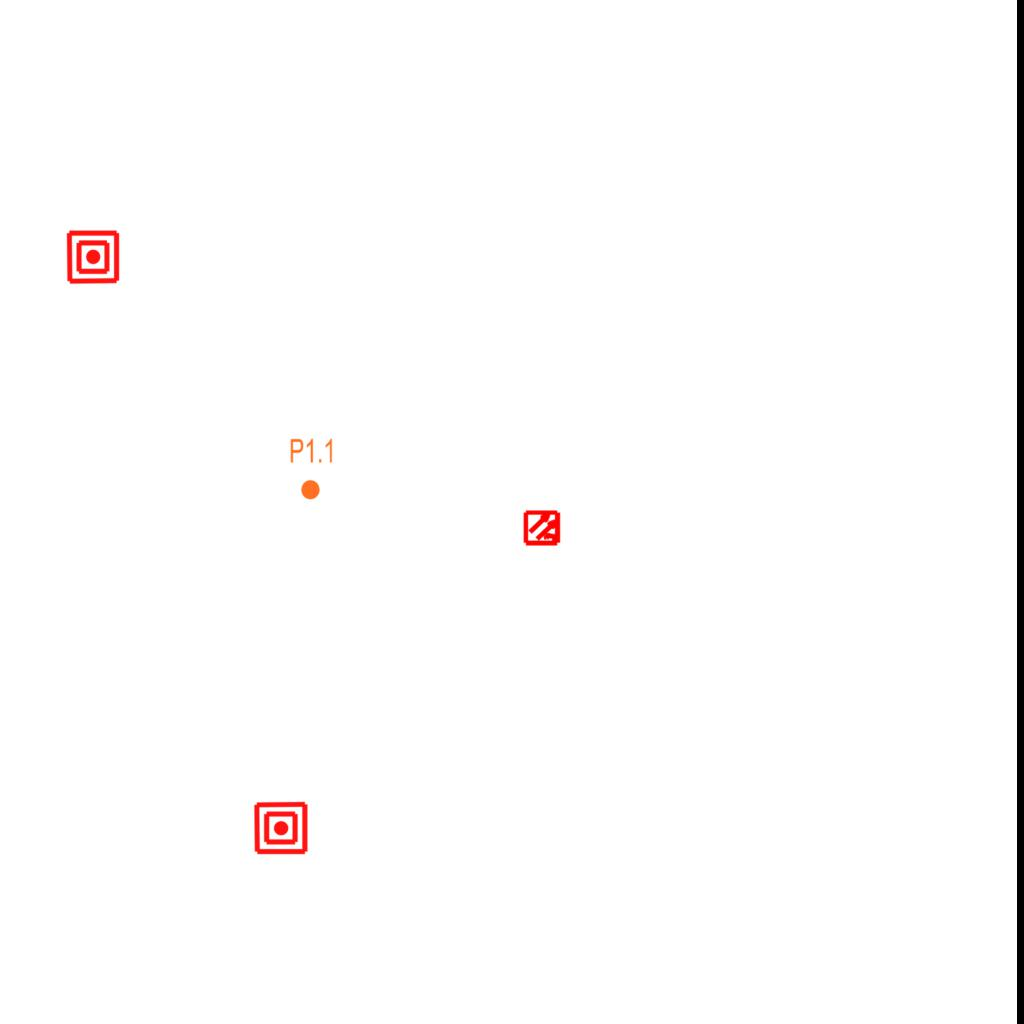Downlight_LED_Einbauleuchten_Flur: (289, 437, 335, 501)
NAM-Nichtautomatischer_Melder: (253, 800, 309, 856), (65, 229, 121, 285)
OT_Multisensormelder_(Kombination_RMO_WMD): (515, 500, 571, 556)
